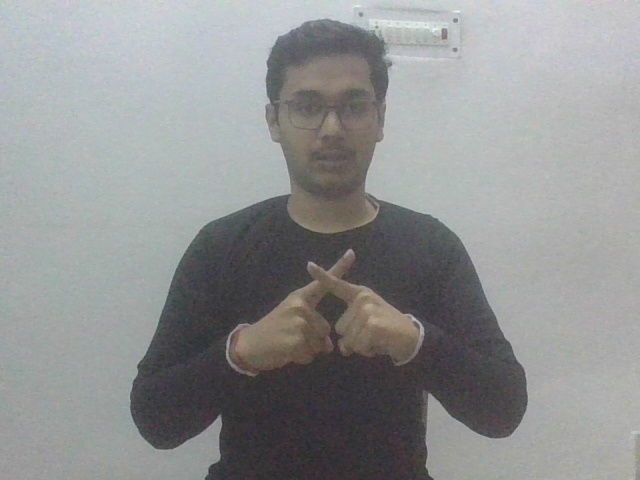X: (253, 245, 395, 374)
